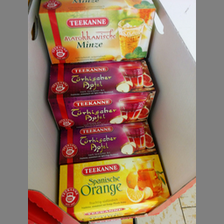tea: (56, 154, 172, 221), (37, 1, 157, 64), (46, 62, 158, 127), (54, 123, 160, 165)
